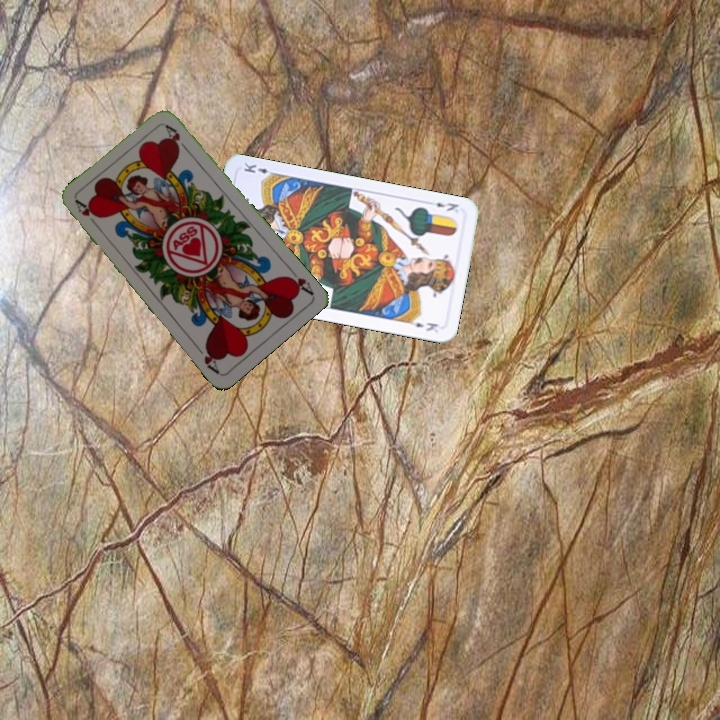EK: (432, 198, 461, 214)
HA: (282, 263, 316, 297), (72, 196, 102, 231)
